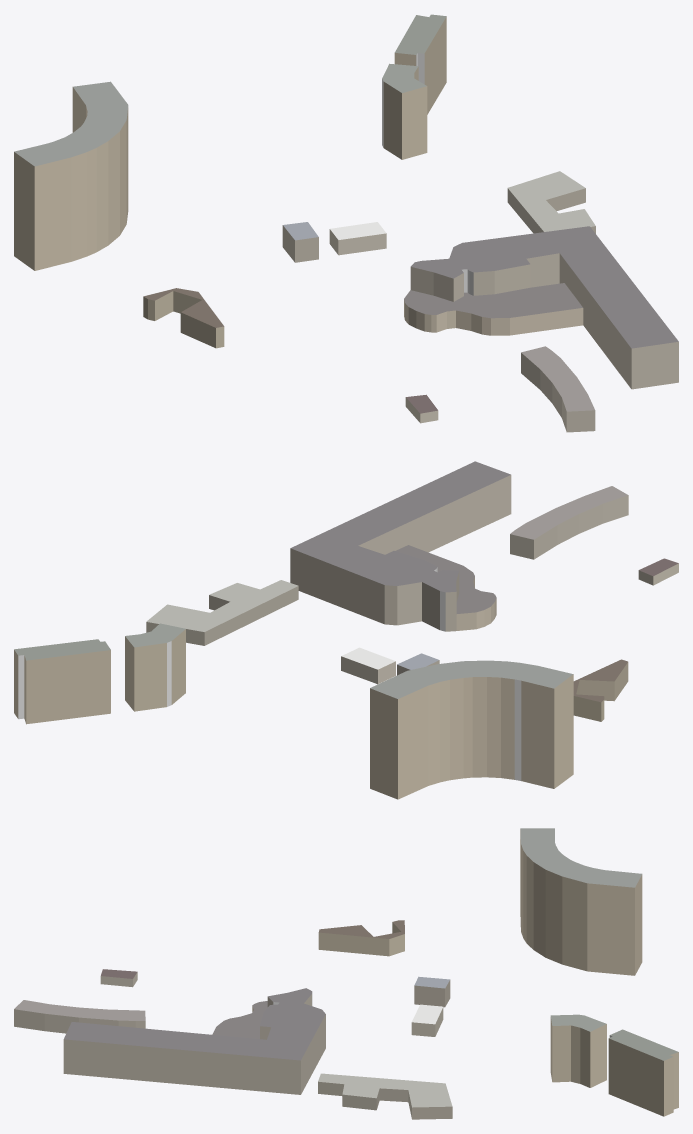
3 renders of one model, top to bottom at view 1: azimuth 30°, elevation 25°; view 2: azimuth 150°, elevation 25°; view 3: azimuth 270°, elevation 25°, orthographic. The views are drawn at different scales.
Visible parts, largest first — view 1: tuile; view 2: tuile; view 3: tuile.
Part boxes in pixels (x1,y1,x2,y2): tuile: (14,14,678,432); tuile: (14,461,678,799); tuile: (14,828,678,1119).
Bounding box in the file's own units: 196 × 41.36 × 269.
